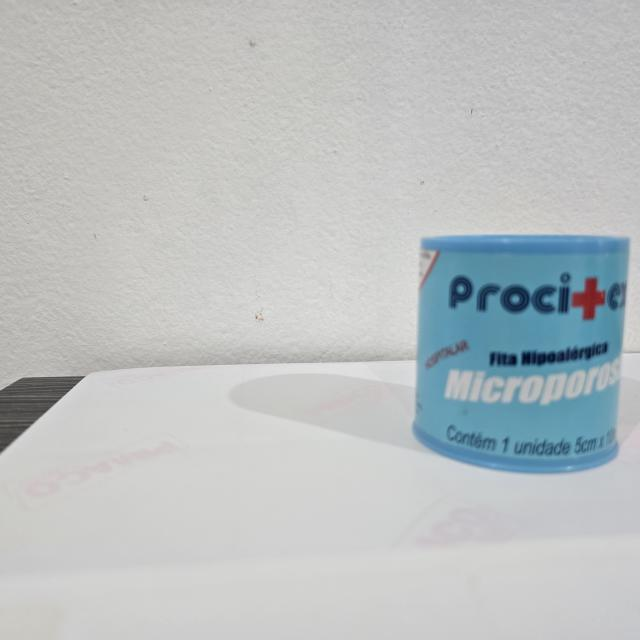procitex: (408, 230, 634, 477)
